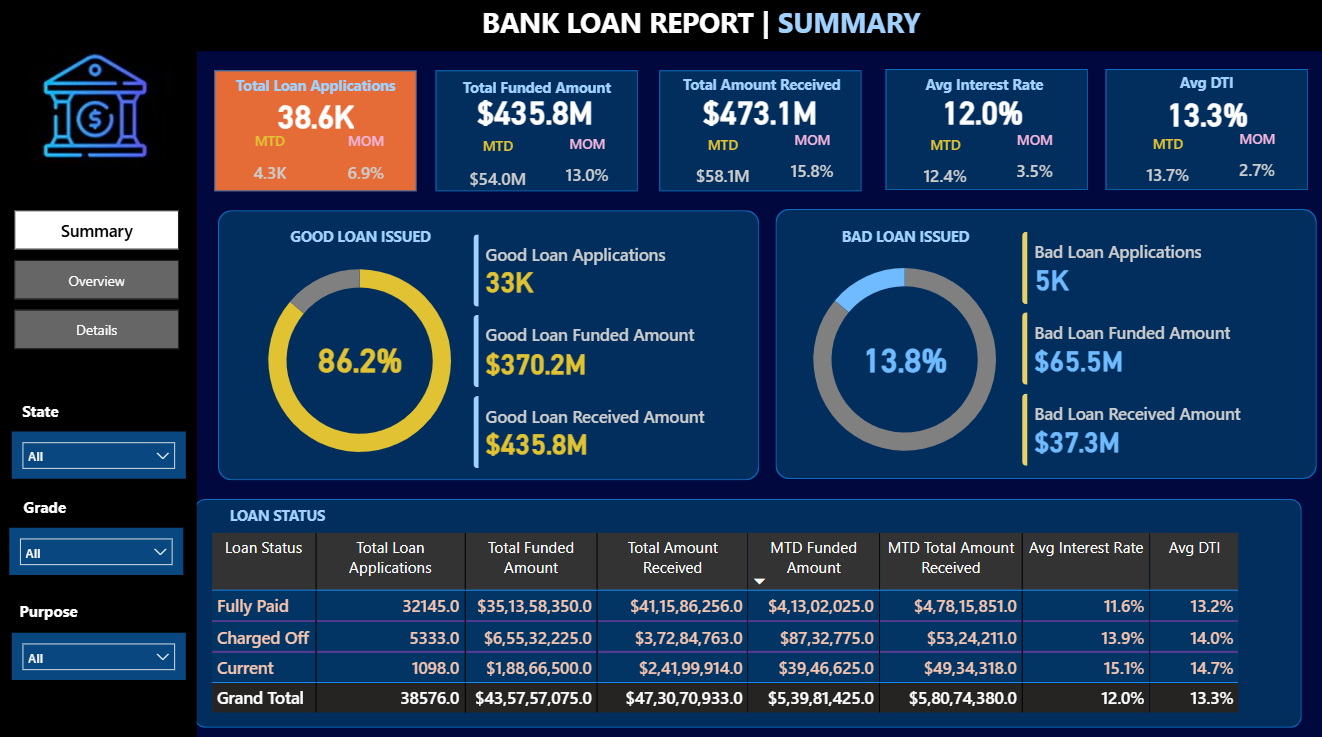

The dashboard page shown, as its layout file describes it:
{"tool":"powerbi","page":{"name":"Summary","canvas":[1280,720],"ordinal":0},"visuals":[{"type":"shape","box":[750.4,207.5,522.4,260.6],"z":0},{"type":"donutChart","fields":{"Category":["Bank_loan_data.Good v Bad Loan"],"Y":["Bank_loan_data.Total Loan Applications"]},"box":[750.4,237.7,249.7,230.4],"z":1000},{"type":"shape","box":[0,0,1280,55.5],"z":2000},{"type":"shape","box":[0,47.1,191.8,673.2],"z":3000},{"type":"textbox","box":[462.1,3.6,447.6,47.1],"z":4000},{"type":"cardVisual","fields":{"Data":["Bank_loan_data.Total Funded Amount"]},"box":[433.3,74.8,170.1,77.2],"z":4000,"group":"g3"},{"type":"cardVisual","fields":{"Data":["Bank_loan_data.Total Amount Received"]},"box":[649.4,75.1,170.1,77.2],"z":4000,"group":"g2"},{"type":"cardVisual","fields":{"Data":["Bank_loan_data.Avg Interest Rate"]},"box":[864.5,75.1,170.1,77.2],"z":4000,"group":"g5"},{"type":"cardVisual","fields":{"Data":["Bank_loan_data.Avg DTI"]},"box":[1082,77.2,170.1,77.2],"z":4000,"group":"g4"},{"type":"cardVisual","fields":{"Data":["Bank_loan_data.Total Loan Applications"]},"box":[224.4,83.3,165.3,70],"z":4000,"group":"g1"},{"type":"textbox","box":[1068.9,71.2,195.4,36.2],"z":5000,"group":"g4"},{"type":"textbox","box":[638.8,72.4,195.4,36.2],"z":5000,"group":"g2"},{"type":"textbox","box":[853.9,72.4,195.4,36.2],"z":5000,"group":"g5"},{"type":"textbox","box":[208.7,73.6,195.4,36.2],"z":5000,"group":"g1"},{"type":"shape","box":[208.7,73.6,195.4,117],"z":5000},{"type":"textbox","box":[422.3,75.5,195.4,36.2],"z":5000,"group":"g3"},{"type":"textbox","box":[13.3,387.3,55.5,30.2],"z":5000,"group":"g6"},{"type":"textbox","box":[13.3,480.2,63.9,35],"z":5000,"group":"g7"},{"type":"textbox","box":[10.5,579.9,76,36.2],"z":5000,"group":"g8"},{"type":"cardVisual","title":"MTD","fields":{"Data":["Bank_loan_data.MTD Loan Application"]},"box":[218.4,132.7,88.1,57.9],"z":6000,"group":"g1"},{"type":"cardVisual","title":"MTD","fields":{"Data":["Bank_loan_data.MTD Avg DTI"]},"box":[1071.1,134.7,115.8,57.9],"z":6000,"group":"g4"},{"type":"cardVisual","title":"MTD","fields":{"Data":["Bank_loan_data.MTD Total Amount Received"]},"box":[641,135.9,115.8,57.9],"z":6000,"group":"g2"},{"type":"cardVisual","title":"MTD","fields":{"Data":["Bank_loan_data.MTD Avg Int Rate"]},"box":[856.1,135.9,115.8,57.9],"z":6000,"group":"g5"},{"type":"cardVisual","title":"MTD","fields":{"Data":["Bank_loan_data.MTD Funded Amount"]},"box":[424.9,137,115.8,61.5],"z":6000,"group":"g3"},{"type":"shape","box":[189.4,487.4,1068.9,220.8],"z":6000},{"type":"cardVisual","title":"MOM","fields":{"Data":["Bank_loan_data.MOM Avg DTI"]},"box":[1166.6,130.3,97.7,57.9],"z":7000,"group":"g4"},{"type":"cardVisual","title":"MOM","fields":{"Data":["Bank_loan_data.MOM Total Amount Received"]},"box":[736.5,131.5,97.7,57.9],"z":7000,"group":"g2"},{"type":"cardVisual","title":"MOM","fields":{"Data":["Bank_loan_data.MOM Avg Int Rate"]},"box":[951.6,131.5,97.7,57.9],"z":7000,"group":"g5"},{"type":"cardVisual","title":"MOM","fields":{"Data":["Bank_loan_data.MOM Loan Applications"]},"box":[306.4,132.7,97.7,57.9],"z":7000,"group":"g1"},{"type":"cardVisual","title":"MOM","fields":{"Data":["Bank_loan_data.MOM Total Funded Amount"]},"box":[520,134.6,97.7,57.9],"z":7000,"group":"g3"},{"type":"textbox","box":[189.4,488.6,160.5,36.2],"z":7000},{"type":"group","id":"g1","title":"Group 1","box":[208.7,73.6,195.4,117],"z":8000},{"type":"shape","box":[212.3,208.7,522.4,260.6],"z":9000},{"type":"donutChart","fields":{"Category":["Bank_loan_data.Good v Bad Loan"],"Y":["Bank_loan_data.Total Loan Applications"]},"box":[224.4,238.9,249.7,230.4],"z":10000},{"type":"cardVisual","fields":{"Data":["Bank_loan_data.Good Loan %"]},"box":[277.5,322.1,144.8,61.5],"z":11000},{"type":"textbox","box":[778.2,219.6,195.4,36.2],"z":12000},{"type":"shape","box":[638.2,73.6,195.4,117],"z":13000},{"type":"shape","box":[422.3,73.6,195.4,117],"z":14000},{"type":"group","id":"g2","title":"Group 1","box":[638.8,72.4,195.4,121.9],"z":15000},{"type":"group","id":"g3","title":"Group 1","box":[422.3,74.8,195.4,124.3],"z":16000},{"type":"shape","box":[856.6,72.4,195.4,117],"z":17000},{"type":"shape","box":[1068.9,72.4,195.4,117],"z":18000},{"type":"group","id":"g4","title":"Group 1","box":[1068.9,71.2,195.4,121.9],"z":19000},{"type":"group","id":"g5","title":"Group 1","box":[853.9,72.4,195.4,121.9],"z":20000},{"type":"cardVisual","fields":{"Data":["Bank_loan_data.Good Loan Applications","Bank_loan_data.Good Loan Funded Amount","Bank_loan_data.Good Loan Received Amount"]},"box":[447.6,220.8,275.1,249.7],"z":21000},{"type":"textbox","box":[252.1,219.6,195.4,36.2],"z":22000},{"type":"shape","box":[0,47.1,191.8,673.2],"z":23000},{"type":"cardVisual","fields":{"Data":["Bank_loan_data.Bad Loan %"]},"box":[803.5,322.1,144.8,61.5],"z":24000},{"type":"cardVisual","fields":{"Data":["Bank_loan_data.Bad Loan Applications","Bank_loan_data.Bad Loan Funded Amount","Bank_loan_data.Bad Loan Received Amount"]},"box":[977.2,218.4,275.1,249.7],"z":25000},{"type":"tableEx","fields":{"Values":["Bank_loan_data.loan_status","Bank_loan_data.Total Loan Applications","Bank_loan_data.Total Funded Amount","Bank_loan_data.Total Amount Received","Bank_loan_data.MTD Funded Amount","Bank_loan_data.MTD Total Amount Received","Bank_loan_data.Avg Interest Rate","Bank_loan_data.Avg DTI"]},"box":[200.3,515.2,1052,183.4],"z":26000},{"type":"textbox","box":[263,218.4,194.2,37.4],"z":27000},{"type":"textbox","box":[272.7,218.4,174.9,37.4],"z":28000},{"type":"slicer","fields":{"Values":["Bank_loan_data.address_state"]},"box":[13.3,422.3,167.7,45.8],"z":29000},{"type":"group","id":"g6","title":"Group 1","box":[13.3,387.3,55.5,30.2],"z":30000},{"type":"slicer","fields":{"Values":["Bank_loan_data.grade"]},"box":[10.9,515.2,167.7,45.8],"z":31000},{"type":"group","id":"g7","title":"Group 1","box":[13.3,480.2,63.9,35],"z":32000},{"type":"slicer","fields":{"Values":["Bank_loan_data.purpose"]},"box":[13.3,616.5,167.7,45.8],"z":33000},{"type":"group","id":"g8","title":"Group 1","box":[10.5,579.9,76,36.2],"z":34000},{"type":"image","box":[25.3,48.3,155.6,121.9],"z":35000},{"type":"pageNavigator","box":[15.7,208.7,159.3,135.1],"z":36000}]}

Visuals, with their boxes in screenshot pixels (x1, y1, x2, y2), scaled from the page's 1280x720 canvas onto the 1322x737 screenshot:
shape: [left=775, top=212, right=1315, bottom=479]
donutChart - Bank_loan_data.Good v Bad Loan x Bank_loan_data.Total Loan Applications: [left=775, top=243, right=1033, bottom=479]
shape: [left=0, top=0, right=1321, bottom=57]
shape: [left=0, top=48, right=198, bottom=736]
textbox: [left=477, top=4, right=940, bottom=52]
cardVisual - Bank_loan_data.Total Funded Amount: [left=448, top=77, right=623, bottom=156]
cardVisual - Bank_loan_data.Total Amount Received: [left=671, top=77, right=846, bottom=156]
cardVisual - Bank_loan_data.Avg Interest Rate: [left=893, top=77, right=1069, bottom=156]
cardVisual - Bank_loan_data.Avg DTI: [left=1118, top=79, right=1293, bottom=158]
cardVisual - Bank_loan_data.Total Loan Applications: [left=232, top=85, right=402, bottom=157]
textbox: [left=1104, top=73, right=1306, bottom=110]
textbox: [left=660, top=74, right=862, bottom=111]
textbox: [left=882, top=74, right=1084, bottom=111]
textbox: [left=216, top=75, right=417, bottom=112]
shape: [left=216, top=75, right=417, bottom=195]
textbox: [left=436, top=77, right=638, bottom=114]
textbox: [left=14, top=396, right=71, bottom=427]
textbox: [left=14, top=492, right=80, bottom=527]
textbox: [left=11, top=594, right=89, bottom=631]
"MTD" cardVisual: [left=226, top=136, right=317, bottom=195]
"MTD" cardVisual: [left=1106, top=138, right=1226, bottom=197]
"MTD" cardVisual: [left=662, top=139, right=782, bottom=198]
"MTD" cardVisual: [left=884, top=139, right=1004, bottom=198]
"MTD" cardVisual: [left=439, top=140, right=558, bottom=203]
shape: [left=196, top=499, right=1300, bottom=725]
"MOM" cardVisual: [left=1205, top=133, right=1306, bottom=193]
"MOM" cardVisual: [left=761, top=135, right=862, bottom=194]
"MOM" cardVisual: [left=983, top=135, right=1084, bottom=194]
"MOM" cardVisual: [left=316, top=136, right=417, bottom=195]
"MOM" cardVisual: [left=537, top=138, right=638, bottom=197]
textbox: [left=196, top=500, right=361, bottom=537]
"Group 1" group: [left=216, top=75, right=417, bottom=195]
shape: [left=219, top=214, right=759, bottom=480]
donutChart - Bank_loan_data.Good v Bad Loan x Bank_loan_data.Total Loan Applications: [left=232, top=245, right=490, bottom=480]
cardVisual - Bank_loan_data.Good Loan %: [left=287, top=330, right=436, bottom=393]
textbox: [left=804, top=225, right=1006, bottom=262]
shape: [left=659, top=75, right=861, bottom=195]
shape: [left=436, top=75, right=638, bottom=195]
"Group 1" group: [left=660, top=74, right=862, bottom=199]
"Group 1" group: [left=436, top=77, right=638, bottom=204]
shape: [left=885, top=74, right=1087, bottom=194]
shape: [left=1104, top=74, right=1306, bottom=194]
"Group 1" group: [left=1104, top=73, right=1306, bottom=198]
"Group 1" group: [left=882, top=74, right=1084, bottom=199]
cardVisual - Bank_loan_data.Good Loan Applications x Bank_loan_data.Good Loan Funded Amount: [left=462, top=226, right=746, bottom=482]
textbox: [left=260, top=225, right=462, bottom=262]
shape: [left=0, top=48, right=198, bottom=736]
cardVisual - Bank_loan_data.Bad Loan %: [left=830, top=330, right=979, bottom=393]
cardVisual - Bank_loan_data.Bad Loan Applications x Bank_loan_data.Bad Loan Funded Amount: [left=1009, top=224, right=1293, bottom=479]
tableEx - Bank_loan_data.loan_status x Bank_loan_data.Total Loan Applications: [left=207, top=527, right=1293, bottom=715]
textbox: [left=272, top=224, right=472, bottom=262]
textbox: [left=282, top=224, right=462, bottom=262]
slicer - Bank_loan_data.address_state: [left=14, top=432, right=187, bottom=479]
"Group 1" group: [left=14, top=396, right=71, bottom=427]
slicer - Bank_loan_data.grade: [left=11, top=527, right=184, bottom=574]
"Group 1" group: [left=14, top=492, right=80, bottom=527]
slicer - Bank_loan_data.purpose: [left=14, top=631, right=187, bottom=678]
"Group 1" group: [left=11, top=594, right=89, bottom=631]
image: [left=26, top=49, right=187, bottom=174]
pageNavigator: [left=16, top=214, right=181, bottom=352]
